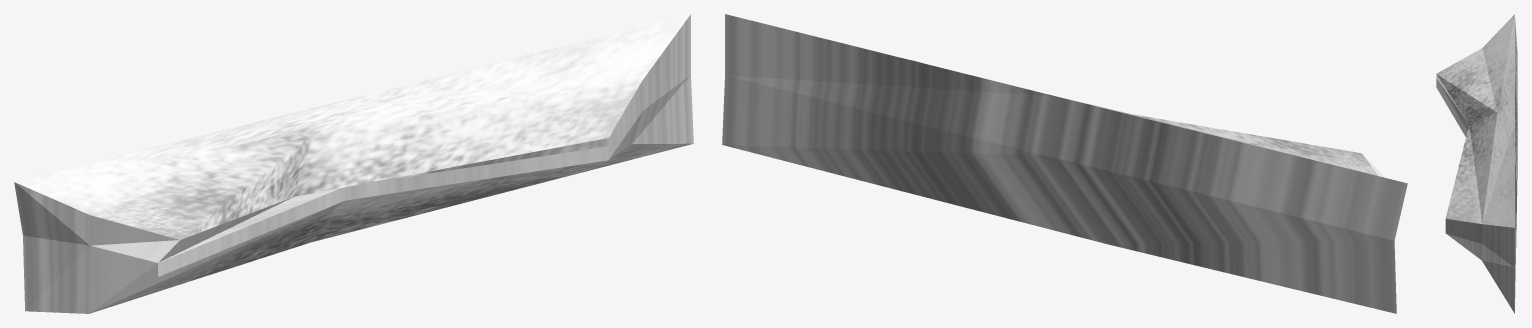
The model's file is snowmound6x1_wtf.obj.
3 views of the same model, side by side, from view 1: azimuth 30°, elevation 25°; view 2: azimuth 150°, elevation 25°; view 3: azimuth 270°, elevation 25° (orthographic). The views are drawn at different scales.
Visible parts, largest first — view 1: group3; view 2: group3; view 3: group3.
Part boxes in pixels (bbox=[...]): group3: bbox=[14, 14, 693, 313]; group3: bbox=[722, 14, 1407, 313]; group3: bbox=[1436, 14, 1517, 313].
Bounding box in the file's own units: 660 × 126 × 105.
